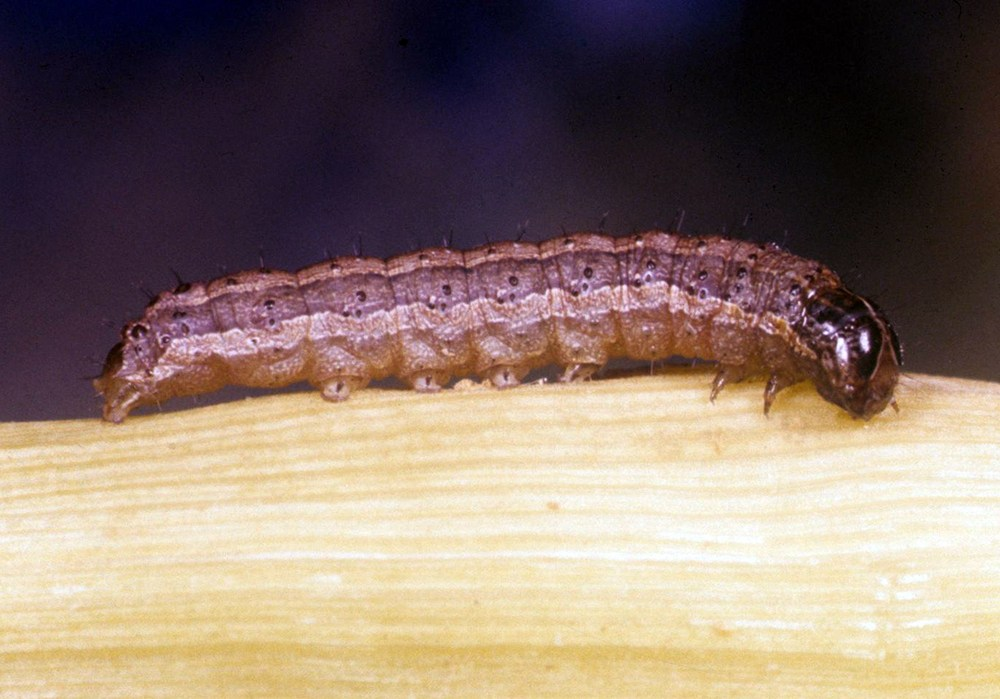Armyworm: (81, 210, 921, 481)
